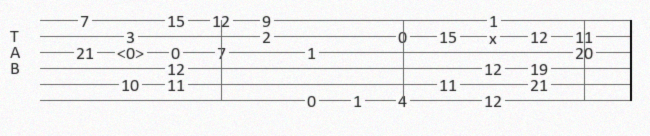0: (171, 45, 184, 60), (307, 93, 320, 108), (398, 29, 411, 44)
1: (307, 45, 320, 60), (353, 93, 366, 108), (489, 13, 502, 28)
10: (121, 77, 143, 92)
11: (167, 77, 189, 92), (439, 77, 461, 92), (575, 29, 597, 44)
12: (167, 61, 189, 76), (212, 13, 234, 28), (484, 61, 506, 76), (484, 93, 506, 108), (530, 29, 552, 44)
15: (167, 13, 189, 28), (439, 29, 461, 44)
19: (530, 61, 552, 76)
2: (262, 29, 275, 44)
20: (575, 45, 597, 60)
21: (76, 45, 98, 60), (530, 77, 552, 92)
3: (126, 29, 139, 44)
4: (398, 93, 411, 108)
7: (80, 13, 93, 28), (217, 45, 230, 60)
9: (262, 13, 275, 28)
harmonic: (117, 45, 148, 60)
x: (489, 30, 501, 42)
